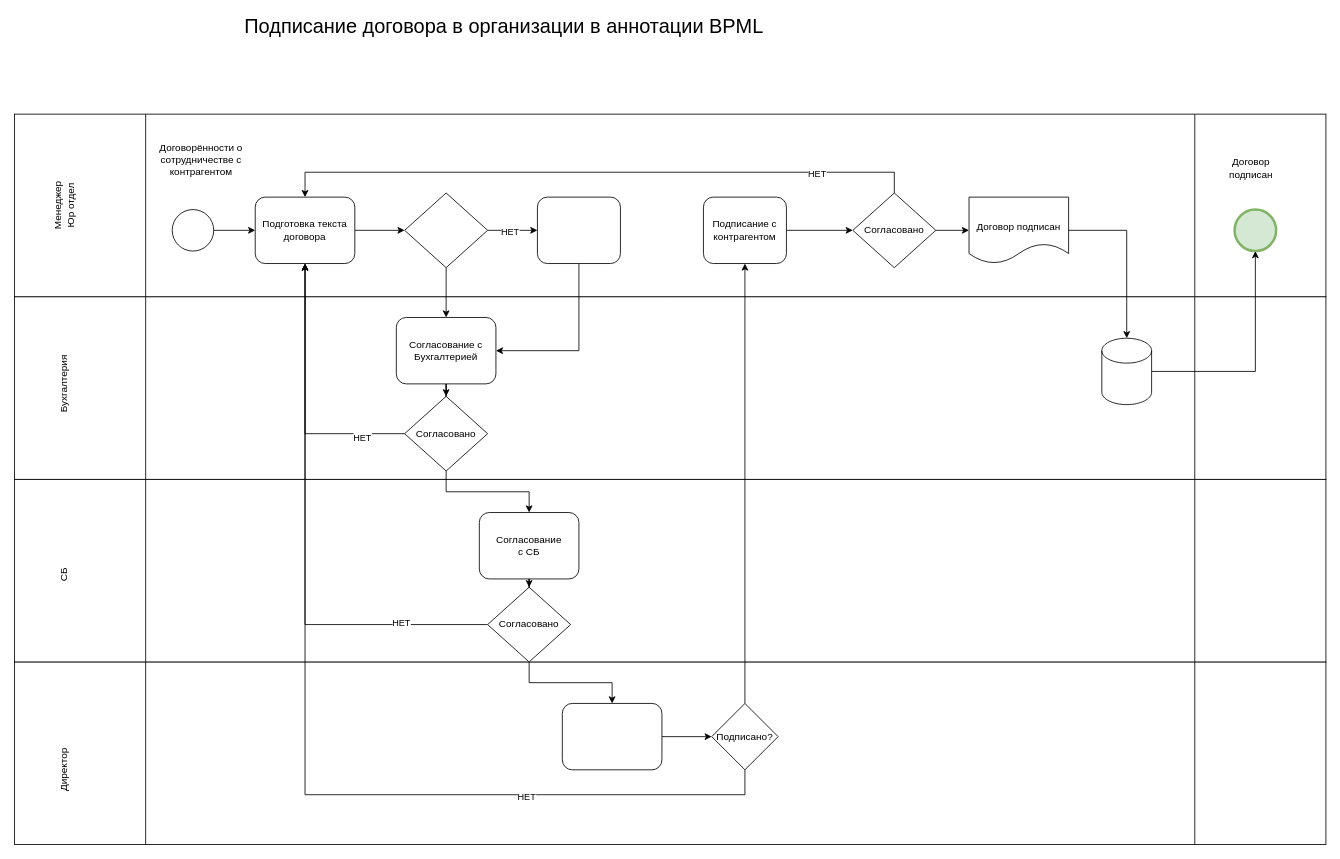
Image size: 1340x859. Some labels were removed from this diagram. The centre of each missing label's shape, as x and y in pixels:
1С: the point at 1126,371
Исправление шаблона юр отделе: the point at 578,230
Подписание Директором: the point at 611,736
Стандвртный договор?: the point at 446,230
